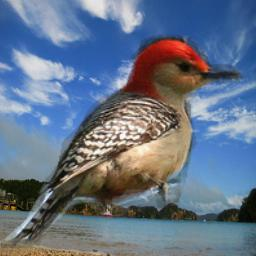Woodpecker: (1, 33, 249, 248)
